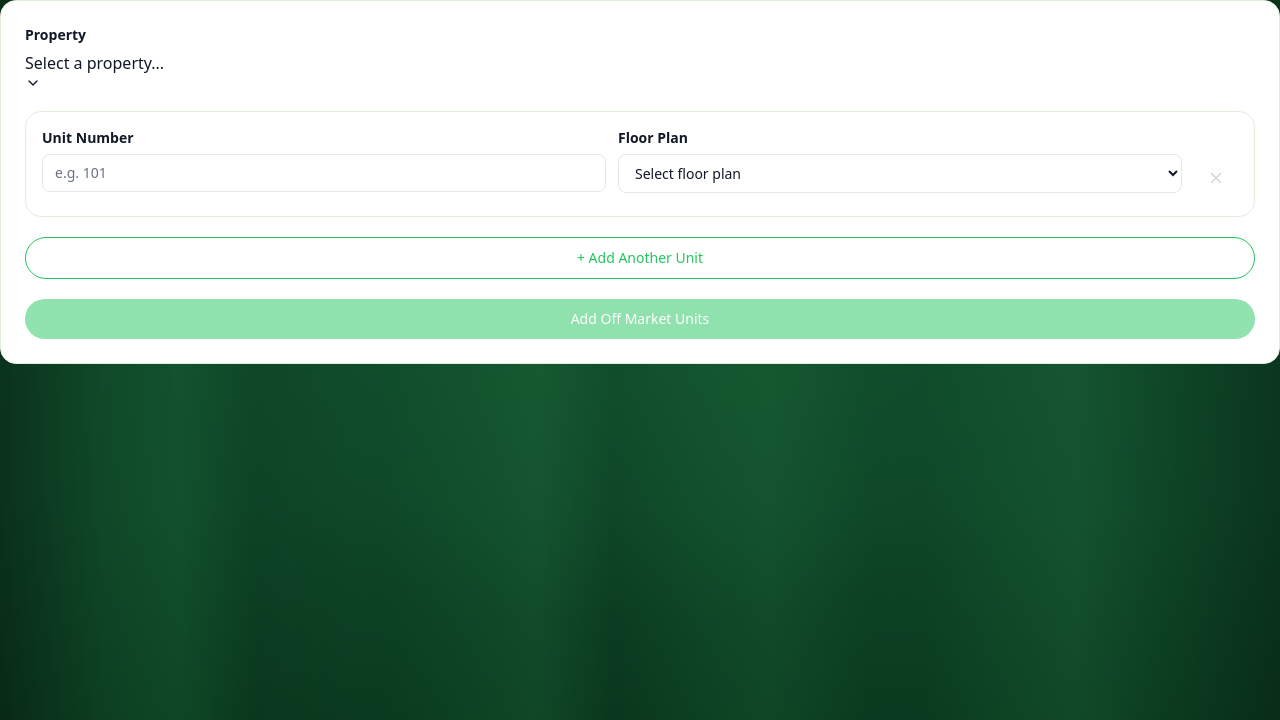
Test: AddVacantForm › shows street address below property selector when a property is selected
// Open the dropdown and select Maple Apartments
Click the button "Select a property..." at x=95, y=71, box [25,51,164,91]
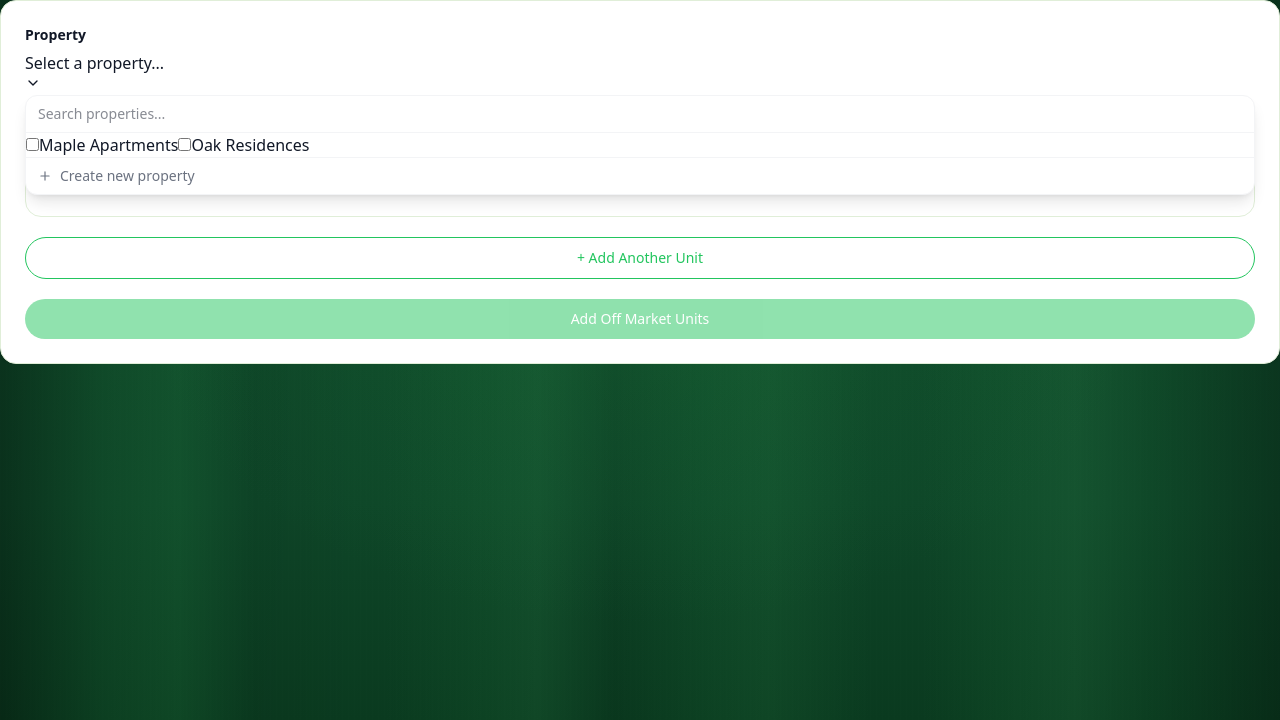
Expected: the checkbox labelled "Maple Apartments" is shown
Click the checkbox labelled "Maple Apartments" at x=32, y=144, box [26,138,39,151]
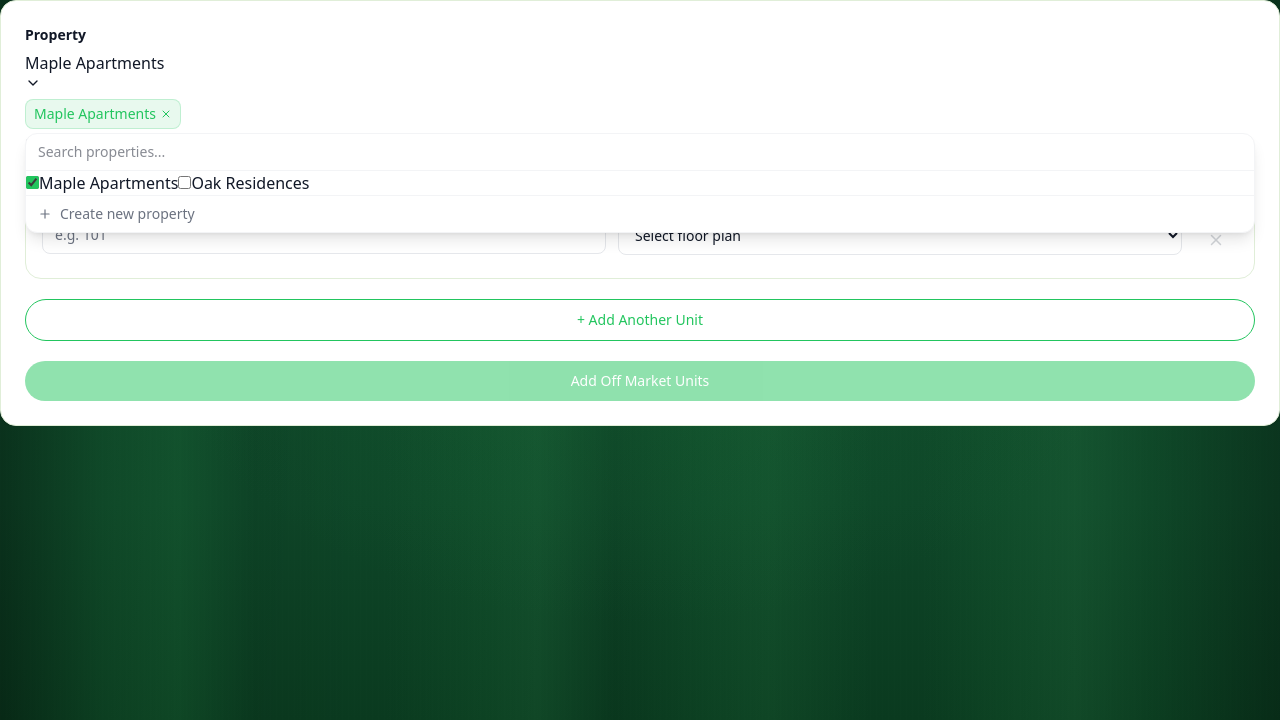
Expected: the text "123 Main St" is shown, [25,133,102,152]
